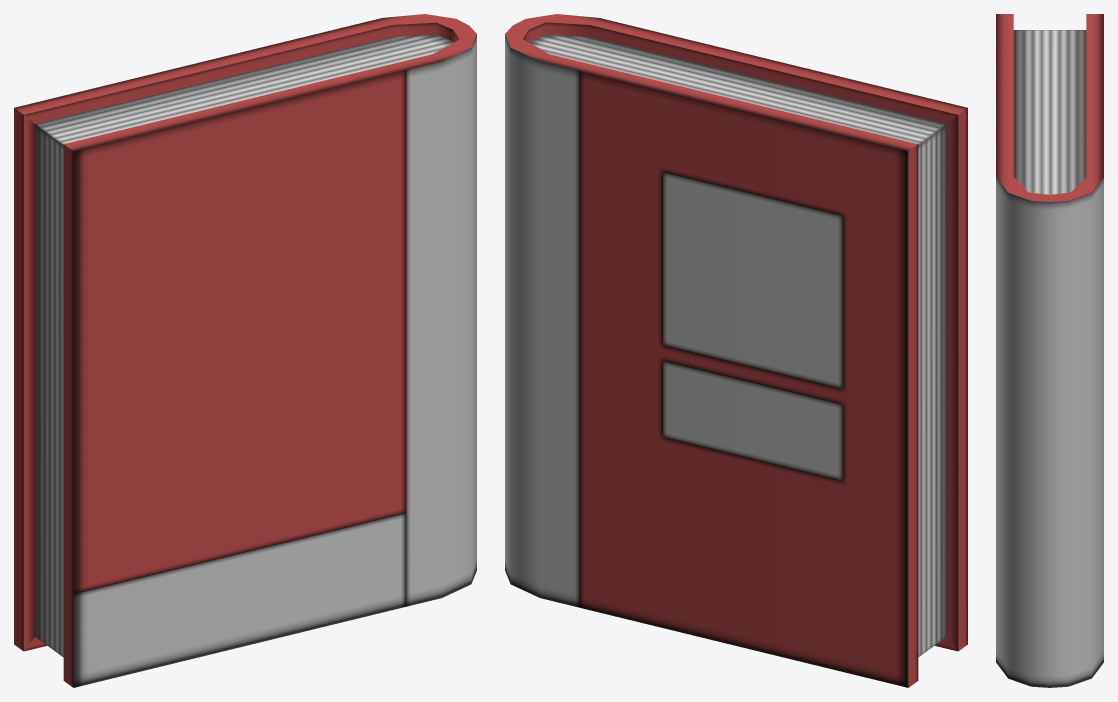
The model's file is book6.fbx.
The picture shows the model from 3 angles, left to right: view 1: azimuth 30°, elevation 25°; view 2: azimuth 150°, elevation 25°; view 3: azimuth 270°, elevation 25°; orthographic projection. The views are drawn at different scales.
Visible parts, largest first — view 1: polySurface207; view 2: polySurface207; view 3: polySurface207.
Part boxes in pixels (x1,y1,x2,y2): polySurface207: (14,14,476,687); polySurface207: (505,14,967,687); polySurface207: (996,14,1103,687).
Bounding box in the file's own units: 0.3366 × 0.4055 × 0.0815.
